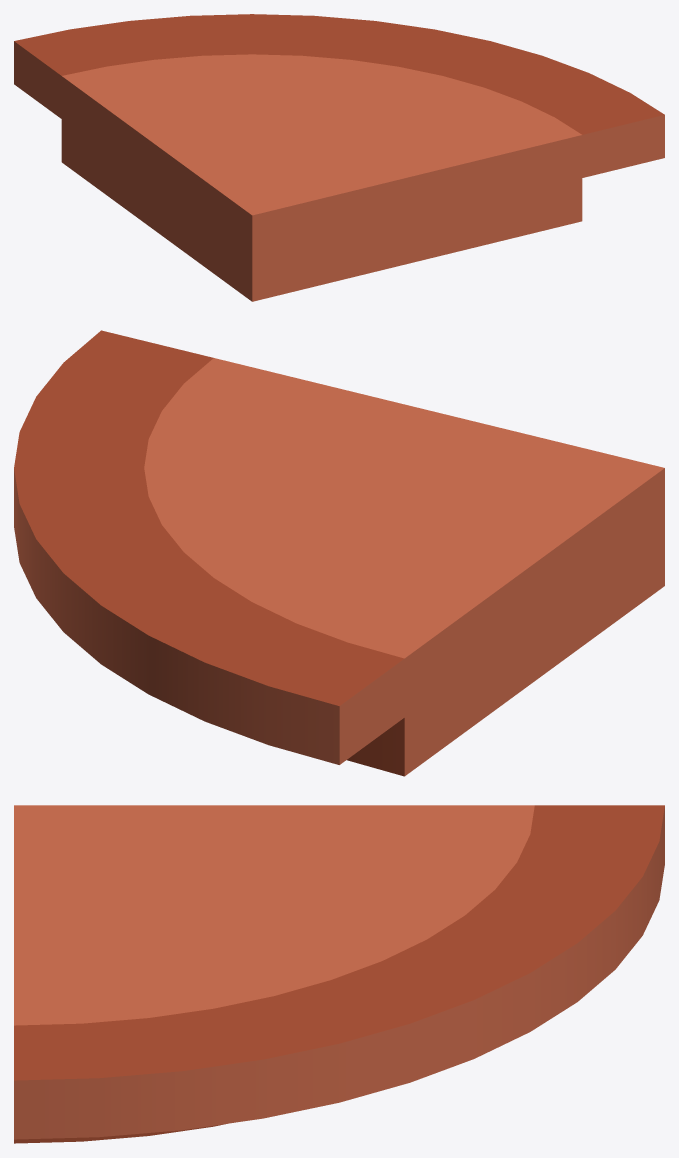
Rendered from desert-floor-corner-round.glb.
The picture shows the model from 3 angles, top to bottom: view 1: azimuth 30°, elevation 25°; view 2: azimuth 150°, elevation 25°; view 3: azimuth 270°, elevation 25°; orthographic projection. The views are drawn at different scales.
Parts seen in each view (by area): view 1: porch_floorCornerCurve%; view 2: porch_floorCornerCurve%; view 3: porch_floorCornerCurve%.
Boxes of the visible parts, x1=… form: porch_floorCornerCurve%: x1=14, y1=14, x2=664, y2=301; porch_floorCornerCurve%: x1=14, y1=330, x2=664, y2=776; porch_floorCornerCurve%: x1=14, y1=805, x2=664, y2=1143.
Bounding box in the file's own units: 0.5 × 0.1 × 0.5.
